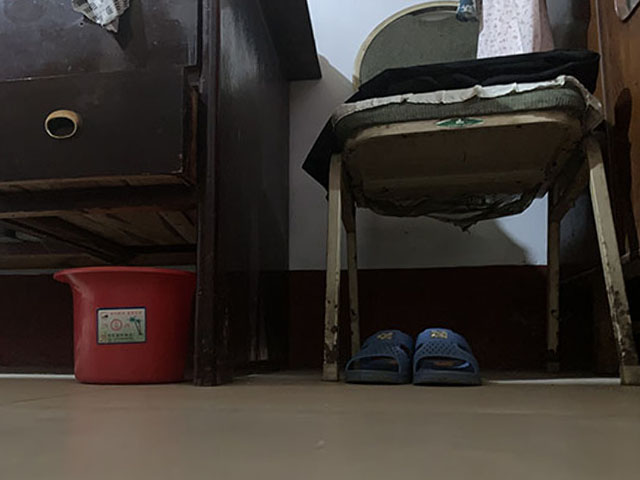cabinet: (1, 1, 323, 388)
slippers: (412, 327, 481, 386), (341, 327, 408, 382)
stool: (301, 1, 640, 389)
